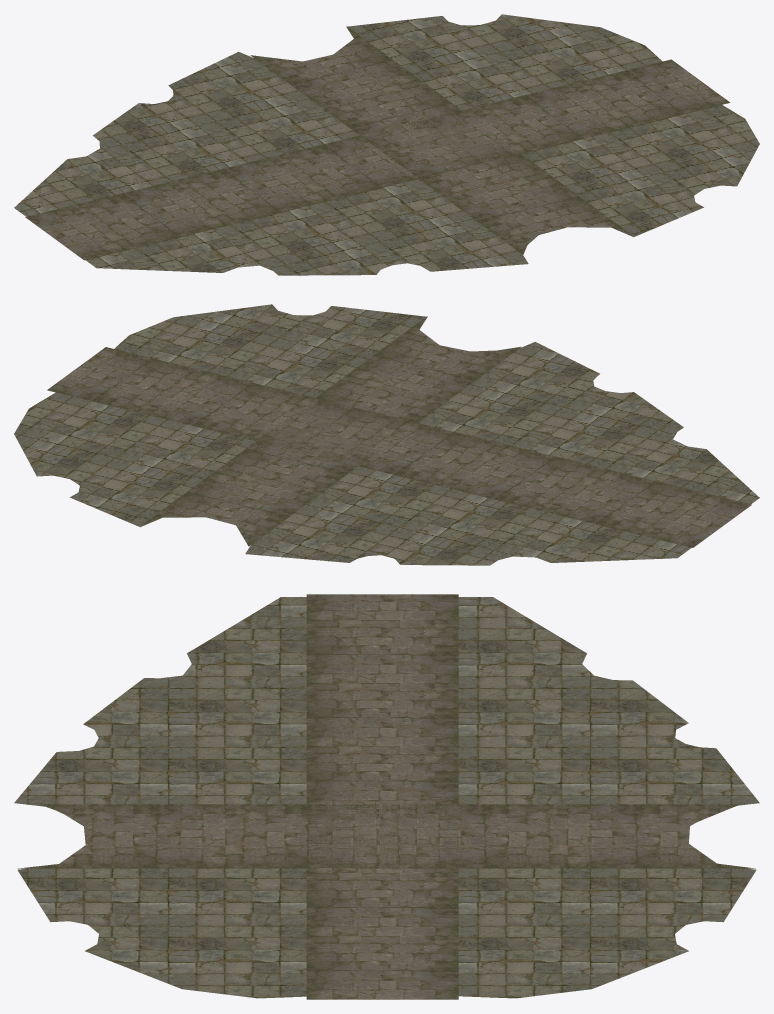
The model's file is bg_anh_gvalley_bossfloor01_sm_cwk.FBX.
3 views of the same model, one above another, from view 1: azimuth 30°, elevation 25°; view 2: azimuth 150°, elevation 25°; view 3: azimuth 270°, elevation 25° (orthographic). The views are drawn at different scales.
Visible parts, largest first — view 1: bg_anh_gvalley_bossfloor01_sm_cwk; view 2: bg_anh_gvalley_bossfloor01_sm_cwk; view 3: bg_anh_gvalley_bossfloor01_sm_cwk.
Part boxes in pixels (<box>): bg_anh_gvalley_bossfloor01_sm_cwk: <box>14,14,759,275</box>; bg_anh_gvalley_bossfloor01_sm_cwk: <box>14,304,759,565</box>; bg_anh_gvalley_bossfloor01_sm_cwk: <box>14,594,759,999</box>.
Size of the model in its own units: 2841 by 4.55 by 2209.
